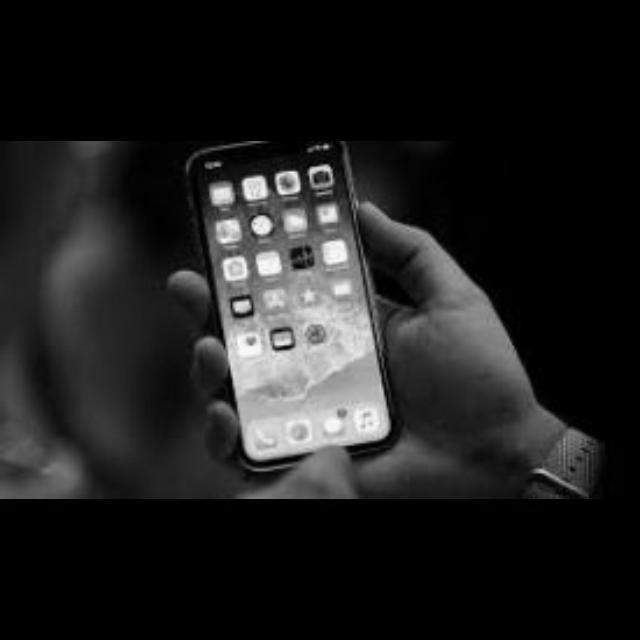fake: (168, 136, 416, 472)
